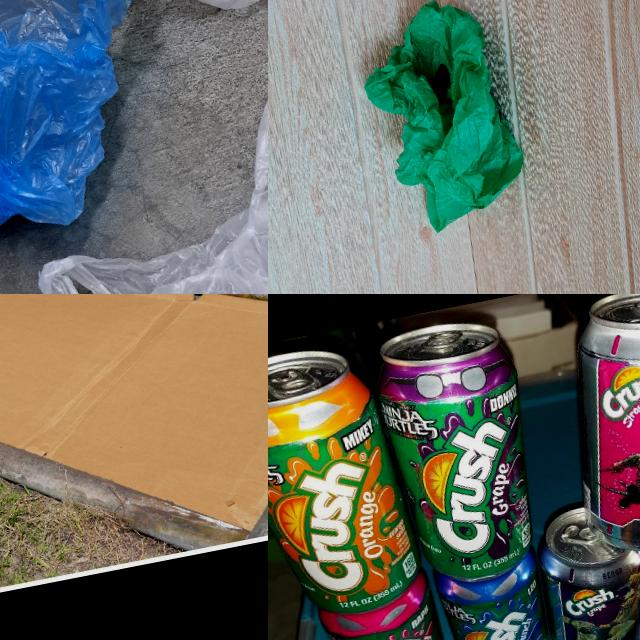aba de lata: (268, 364, 316, 399), (554, 518, 603, 550), (422, 326, 466, 353)
lata: (366, 312, 555, 594), (268, 332, 429, 631), (546, 294, 640, 562), (523, 494, 640, 640), (429, 539, 564, 640), (315, 567, 462, 640)
papelão: (0, 294, 268, 618)
sacola plástica: (7, 55, 268, 294), (0, 0, 205, 252), (354, 0, 538, 242)
